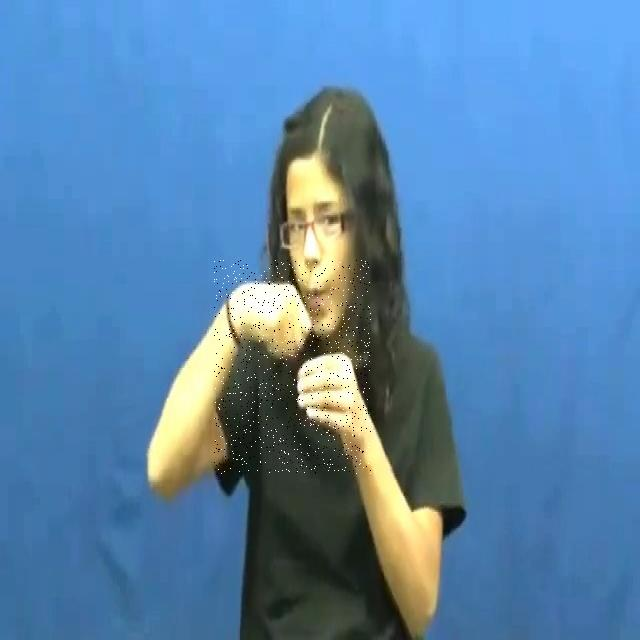yoghurt: (214, 260, 371, 474)
